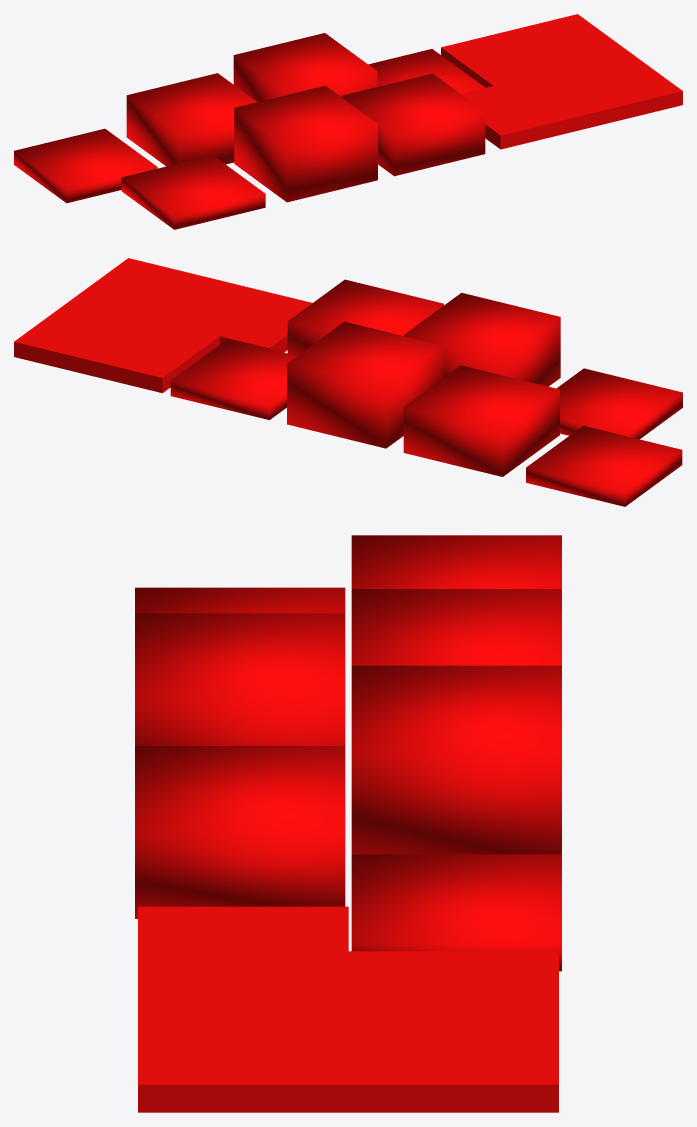
File: steppingstones.dae
3 views of the same model, one above another, from view 1: azimuth 30°, elevation 25°; view 2: azimuth 150°, elevation 25°; view 3: azimuth 270°, elevation 25° (orthographic). The views are drawn at different scales.
Visible parts, largest first — view 1: node (×8); view 2: node (×8); view 3: node (×8).
Part boxes in pixels (x1=…): node (×8): x1=14, y1=14, x2=682, y2=229; node (×8): x1=14, y1=258, x2=682, y2=506; node (×8): x1=135, y1=535, x2=561, y2=1112.
Size of the model in its own units: 2.1 by 0.69 by 0.2.
